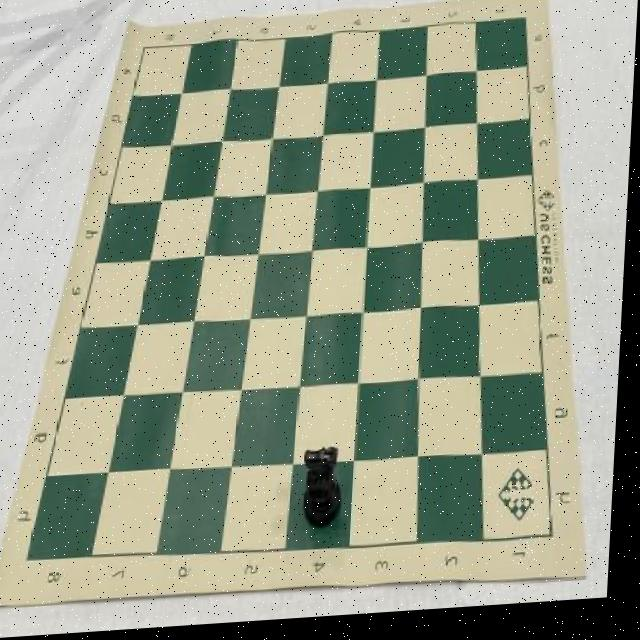black-king: (305, 450, 348, 537)
